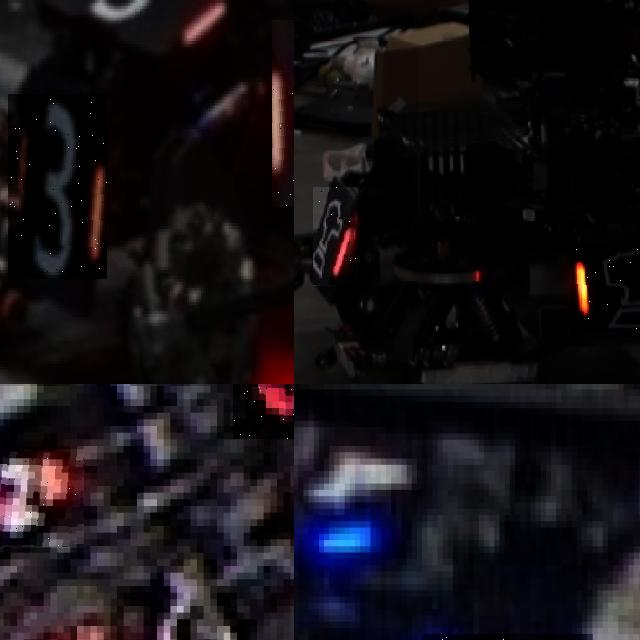R2: (0, 449, 83, 549), (233, 384, 294, 439)
R3: (8, 94, 107, 279)
Rs: (571, 243, 640, 332), (313, 188, 358, 288)
